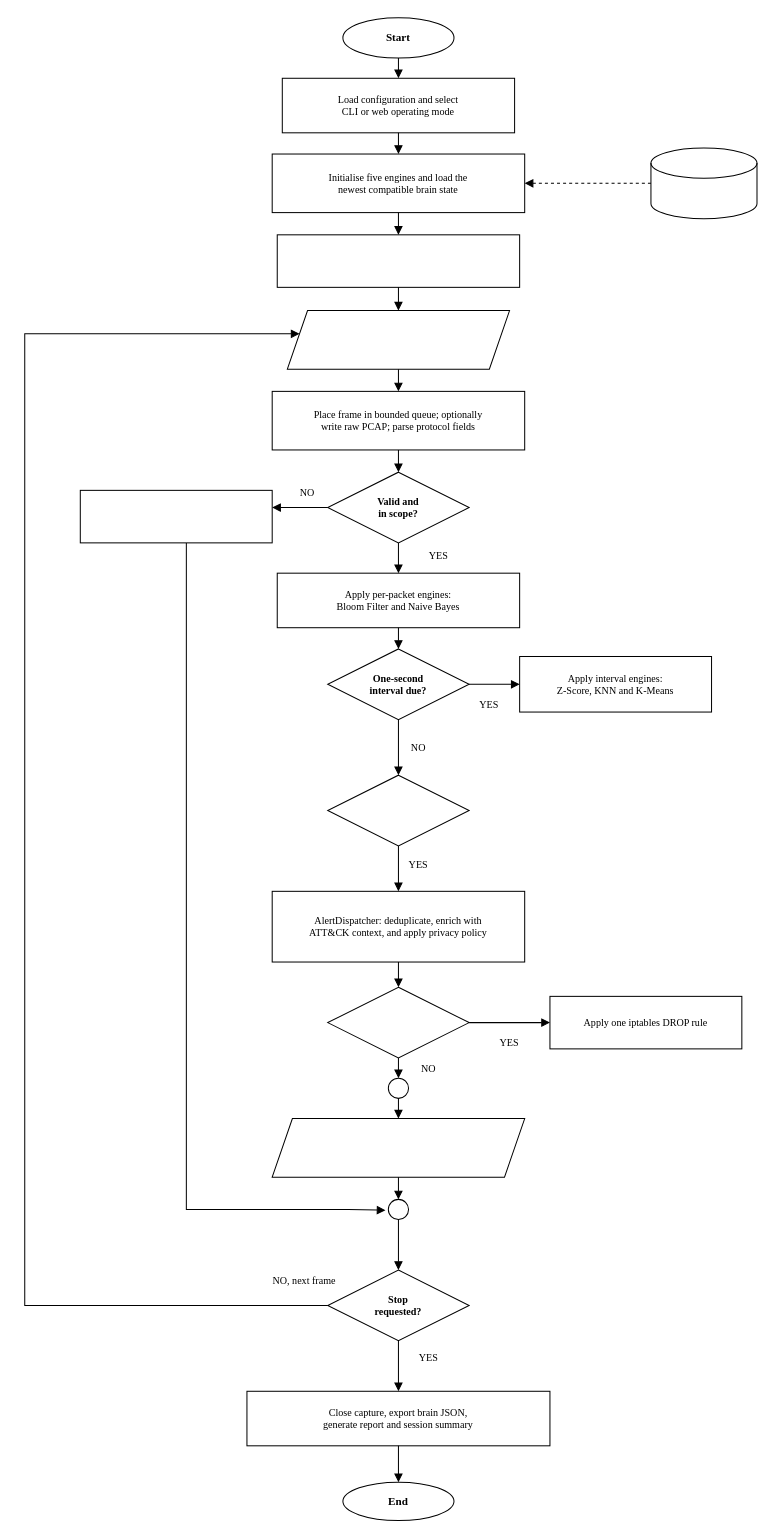
The diagram is 775 pixels wide and 1538 high, and some of its shapes have lost their labels. The centre of each missing label's shape, as x and y in pixels:
"Blocking policy satisfied?" goes at [398,1022].
"Brain-state JSON" goes at [703,183].
"Discard malformed, non-IPv4 or self-generated UI traffic" goes at [175,516].
"Obtain next frame through AF_PACKET or validated offline PCAP replay" goes at [398,339].
"Publish sanitized alert to CSV, report, UDP / JSON and selected dashboard" goes at [398,1147].
"Start capture and analyser processing components" goes at [398,260].
"Threat detected?" goes at [398,810].
